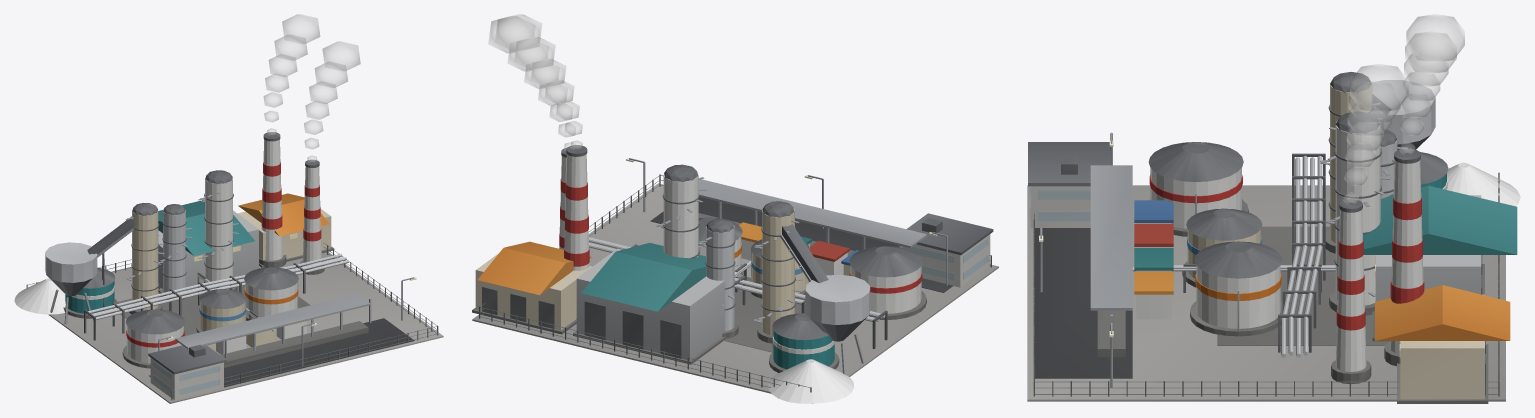
File: Refinery_P2.fbx
3 views of the same model, side by side, from view 1: azimuth 30°, elevation 25°; view 2: azimuth 150°, elevation 25°; view 3: azimuth 270°, elevation 25° (orthographic). The views are drawn at different scales.
Visible parts, largest first — view 1: Refinery.Pad, Refinery.Bay, Refinery.Hall, Refinery.Office, Refinery.Col2, Refinery.Rack1, Refinery.Col0, Refinery.Smoke0, Refinery.Smoke1, Refinery.Shed, Refinery.Tank0, Refinery.Stack0 (+10 smaller); view 2: Refinery.Pad, Refinery.Hall, Refinery.Shed, Refinery.Office, Refinery.Tank0, Refinery.Bay, Refinery.Smoke0, Refinery.Col0, Refinery.Intake, Refinery.Smoke1, Refinery.Col2, Refinery.Tank1 (+10 smaller); view 3: Refinery.Pad, Refinery.Shed, Refinery.Hall, Refinery.Tank3, Refinery.Bay, Refinery.Tank0, Refinery.Rack1, Refinery.Col2, Refinery.Office, Refinery.Stack1, Refinery.Smoke1, Refinery.Smoke0 (+10 smaller).
Boxes of the visible parts, bbox=[...] form: Refinery.Pad: bbox=[48, 252, 443, 403]; Refinery.Bay: bbox=[175, 294, 371, 367]; Refinery.Hall: bbox=[158, 201, 258, 292]; Refinery.Office: bbox=[148, 344, 226, 400]; Refinery.Col2: bbox=[198, 170, 239, 291]; Refinery.Rack1: bbox=[84, 253, 349, 340]; Refinery.Col0: bbox=[125, 203, 164, 314]; Refinery.Smoke0: bbox=[264, 14, 319, 135]; Refinery.Smoke1: bbox=[304, 41, 360, 162]; Refinery.Shed: bbox=[237, 193, 334, 267]; Refinery.Tank0: bbox=[122, 309, 184, 368]; Refinery.Stack0: bbox=[259, 132, 286, 267]; Refinery.Pad: bbox=[472, 183, 998, 403]; Refinery.Hall: bbox=[573, 243, 725, 364]; Refinery.Shed: bbox=[472, 241, 592, 334]; Refinery.Office: bbox=[901, 213, 993, 287]; Refinery.Tank0: bbox=[849, 246, 926, 319]; Refinery.Bay: bbox=[698, 179, 926, 255]; Refinery.Smoke0: bbox=[495, 14, 582, 150]; Refinery.Col0: bbox=[754, 201, 802, 343]; Refinery.Intake: bbox=[805, 274, 870, 374]; Refinery.Smoke1: bbox=[488, 16, 575, 150]; Refinery.Col2: bbox=[655, 164, 706, 258]; Refinery.Tank1: bbox=[769, 313, 839, 372]; Refinery.Pad: bbox=[1027, 185, 1505, 401]; Refinery.Shed: bbox=[1375, 285, 1510, 403]; Refinery.Hall: bbox=[1363, 185, 1517, 341]; Refinery.Tank3: bbox=[1190, 241, 1282, 336]; Refinery.Bay: bbox=[1090, 165, 1132, 357]; Refinery.Tank0: bbox=[1148, 142, 1248, 236]; Refinery.Rack1: bbox=[1278, 153, 1325, 357]; Refinery.Col2: bbox=[1325, 111, 1390, 315]; Refinery.Office: bbox=[1028, 142, 1110, 228]; Refinery.Stack1: bbox=[1331, 199, 1371, 384]; Refinery.Smoke1: bbox=[1343, 64, 1408, 204]; Refinery.Smoke0: bbox=[1400, 14, 1464, 154].
Bounding box in the file's own units: 8243 × 5886 × 7009.
